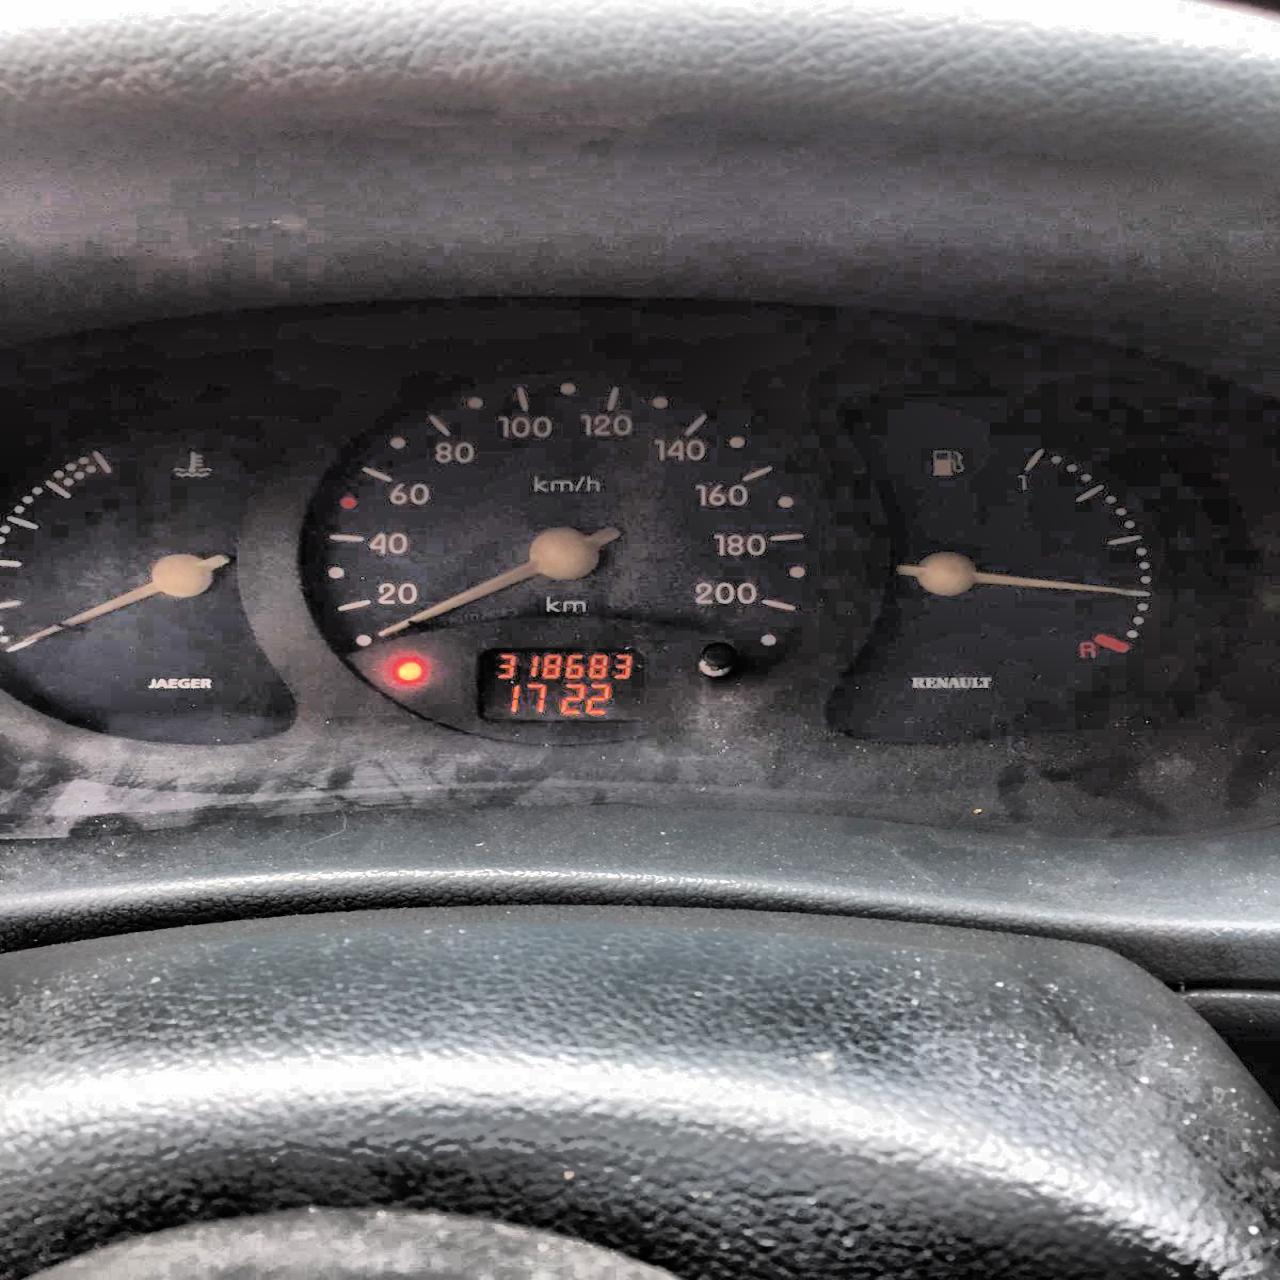1: (510, 685, 518, 712), (530, 654, 538, 676)
2: (585, 683, 611, 714), (560, 683, 585, 714)
3: (495, 654, 516, 678), (613, 654, 632, 679)
6: (565, 654, 584, 678)
7: (525, 683, 546, 712)
8: (587, 654, 608, 679), (540, 654, 561, 678)
odometer: (472, 645, 652, 726)
